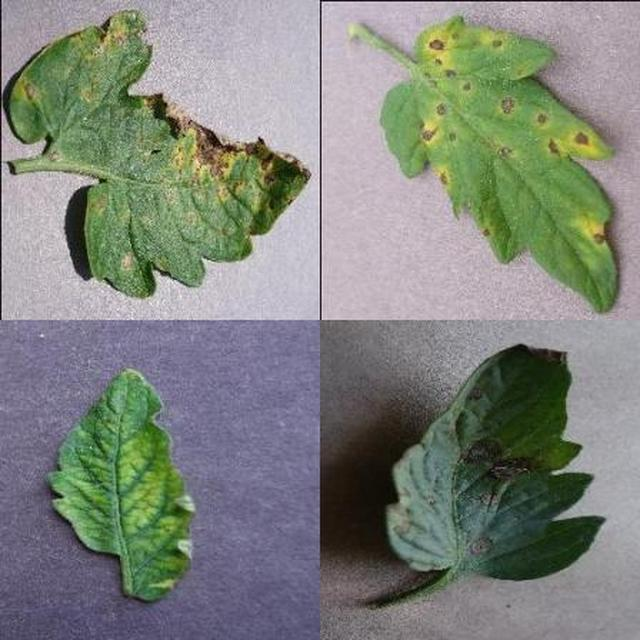Septoria Leaf: (173, 223, 640, 640)
